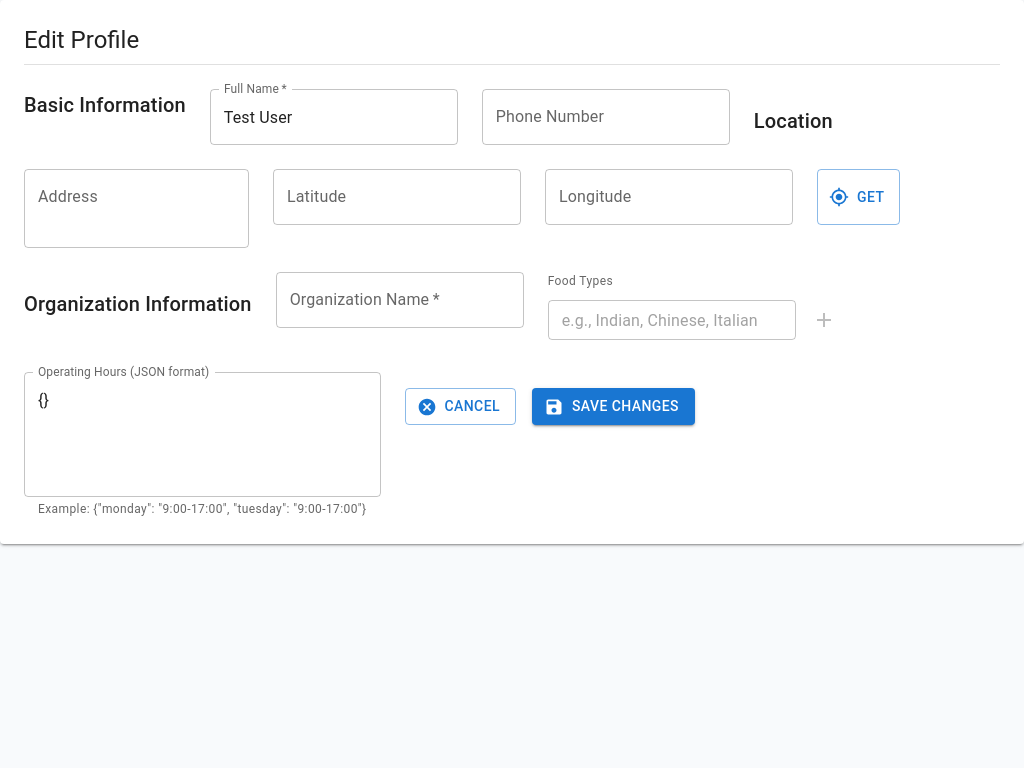
ProfileForm › should show validation error for invalid phone number
The image size is (1024, 768).
Type "invalid" into the field labelled "Phone Number" at (606,117), box [482,89,730,145]
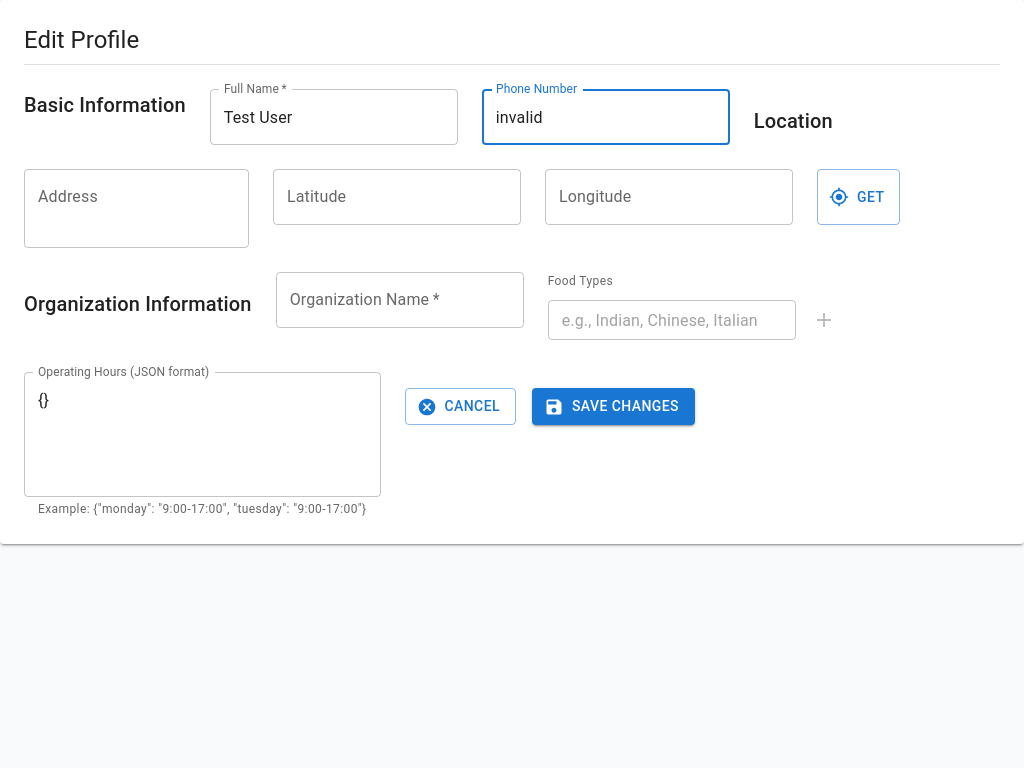
Click the button "Save Changes" at (613,407), box [532,388,695,425]
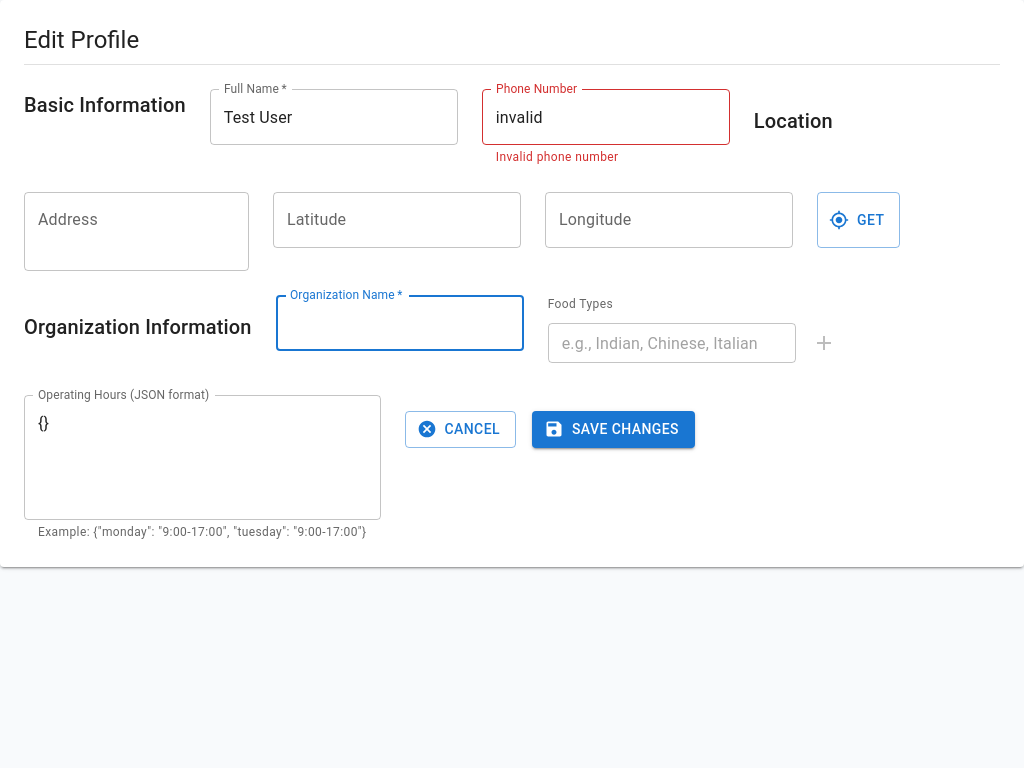
Now the text "Invalid phone number" is shown, box [496,150,618,164]
